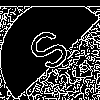S: (24, 25, 80, 82)
